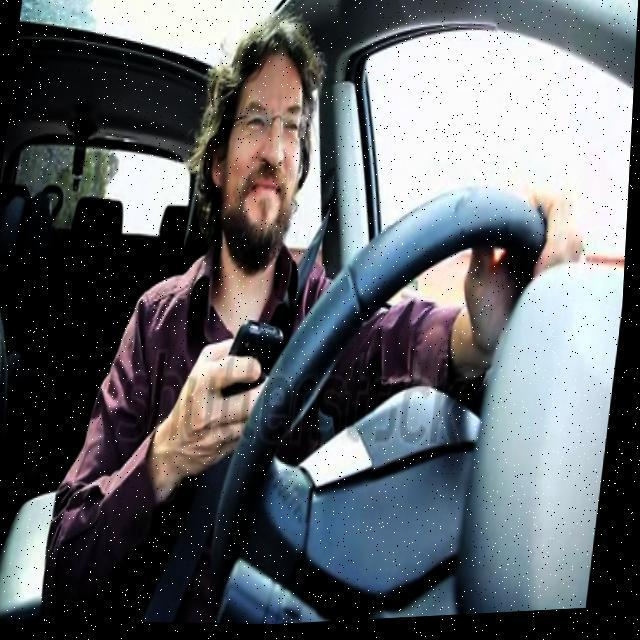PhoneCall: (220, 310, 290, 427)
